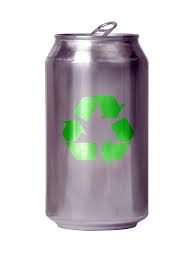can: (39, 20, 155, 232)
